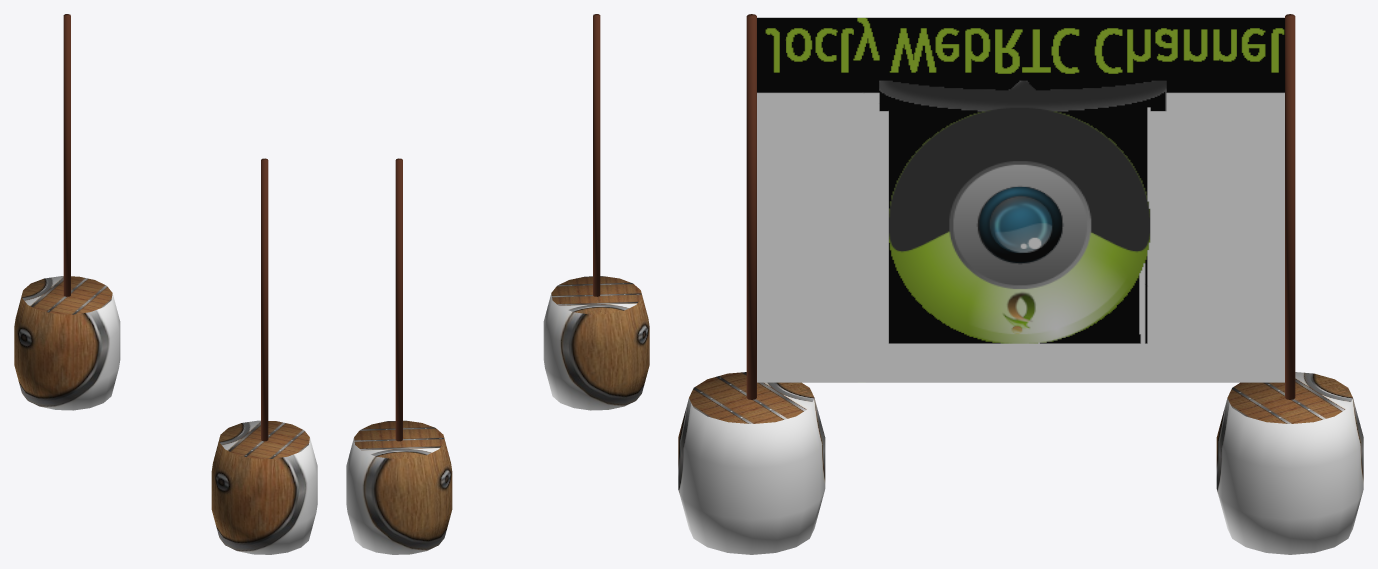
The model's file is barilscreen.gltf.
3 renders of one model, left to right at view 1: azimuth 30°, elevation 25°; view 2: azimuth 150°, elevation 25°; view 3: azimuth 270°, elevation 25°, orthographic. The views are drawn at different scales.
Size of the model in its own units: 0.6386 by 2.48 by 3.01.
Materials: 5 (3 with a texture image).
